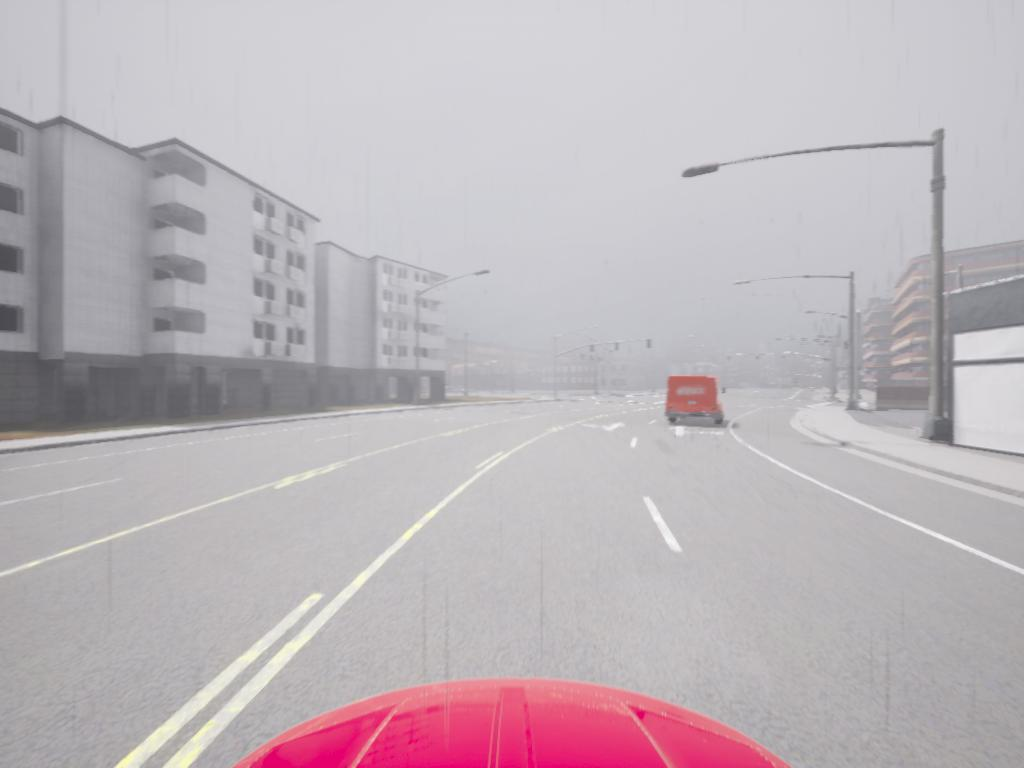traffic_light: (647, 340, 652, 350), (756, 356, 761, 365), (591, 345, 595, 354), (728, 356, 733, 363), (782, 354, 787, 361), (616, 343, 619, 353)
